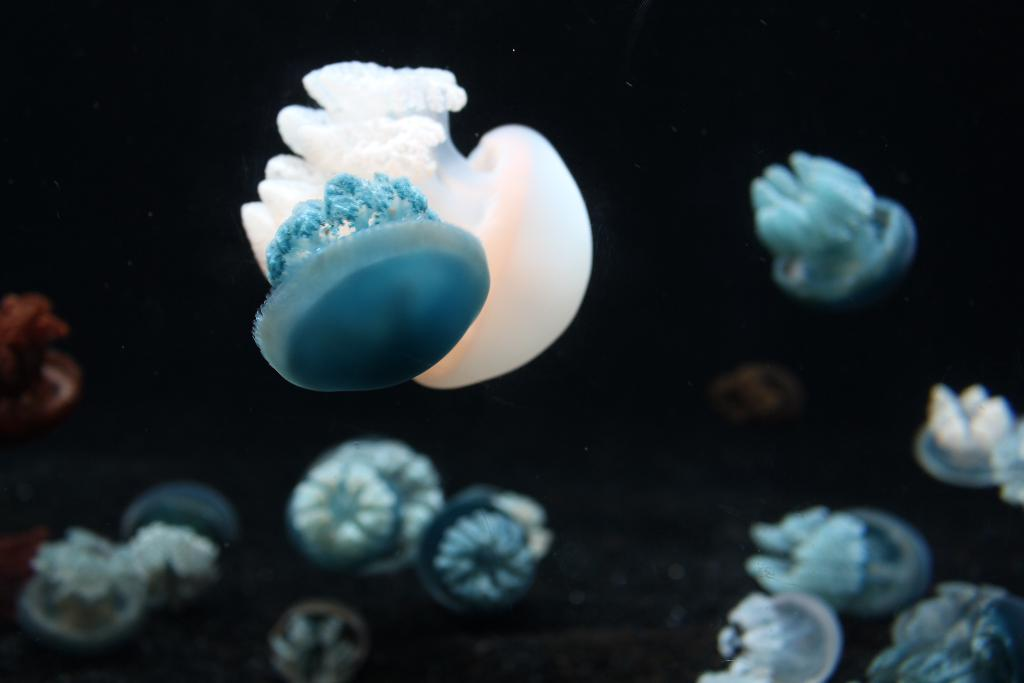Jellyfish: (237, 57, 592, 397), (248, 167, 490, 392), (746, 148, 912, 305), (292, 434, 442, 588), (750, 502, 923, 614), (19, 528, 149, 654), (421, 488, 551, 607), (112, 486, 236, 608), (858, 582, 1009, 682), (697, 590, 842, 682), (912, 386, 1023, 504)
